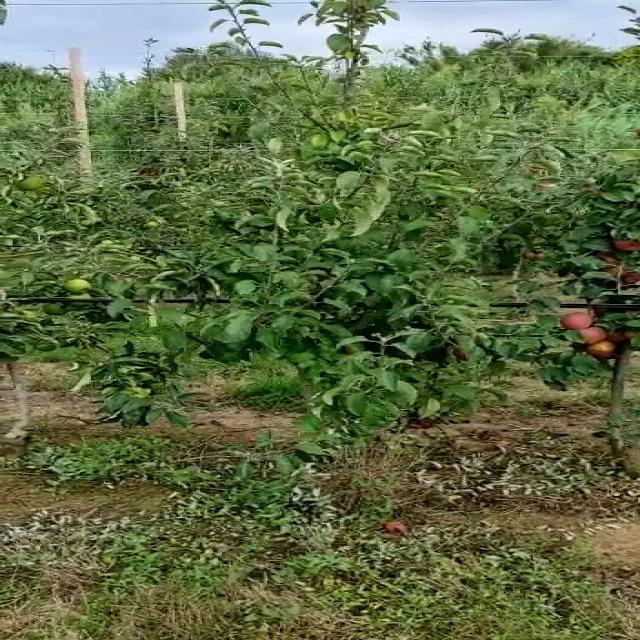100-_ripeness: (609, 232, 640, 252), (564, 312, 591, 331), (585, 340, 613, 357), (578, 327, 604, 343), (620, 272, 640, 285), (598, 259, 618, 269)
